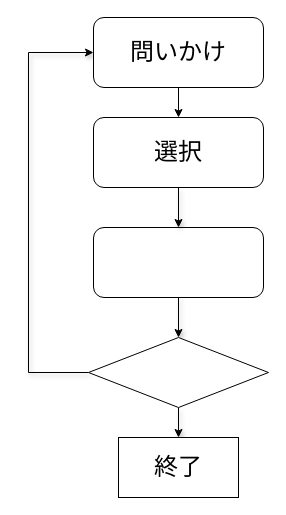
Image size: 286x515. Some labels were removed from this diagram. The shapes that lost their labels are listed below. From the top down, each one's centre as x and y in pixels, then its label:
the point at 178,262: データ処理
the point at 178,372: 条件分岐
